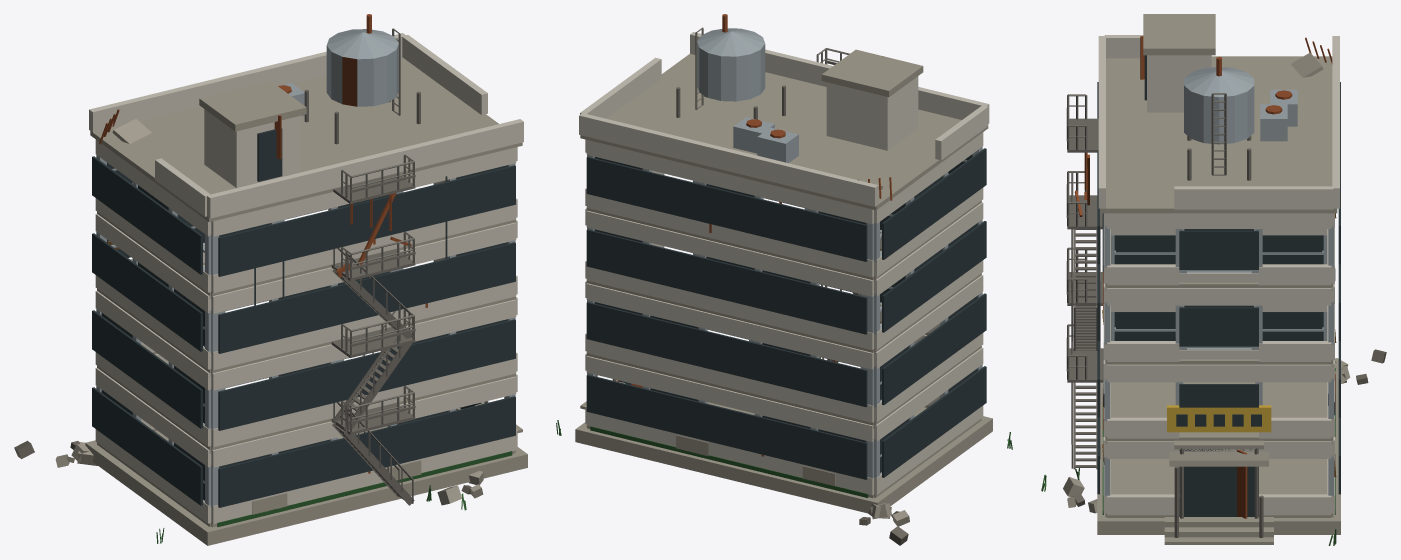
Rendered from ChemPlant_Office.fbx.
The picture shows the model from 3 angles, left to right: view 1: azimuth 30°, elevation 25°; view 2: azimuth 150°, elevation 25°; view 3: azimuth 270°, elevation 25°; orthographic projection. The views are drawn at different scales.
Visible parts, largest first — view 1: ChemPlant_Office; view 2: ChemPlant_Office; view 3: ChemPlant_Office.
Boxes of the visible parts, box(x1,y1,x2,y2) form: ChemPlant_Office: box(14, 14, 527, 545); ChemPlant_Office: box(556, 14, 1012, 545); ChemPlant_Office: box(1041, 14, 1386, 545).
Bounding box in the file's own units: 1844 × 1929 × 1389.
